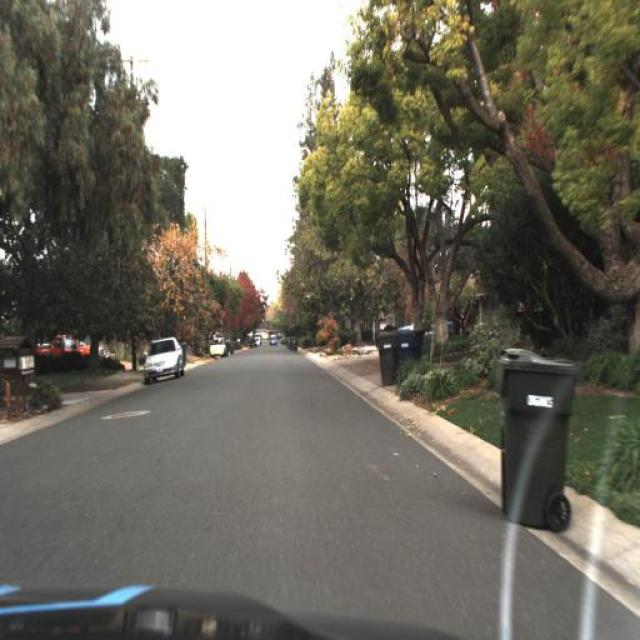car: (140, 334, 189, 386), (140, 335, 184, 385), (36, 330, 106, 360), (28, 330, 104, 356), (396, 306, 446, 340), (208, 334, 228, 361), (208, 332, 226, 357)
